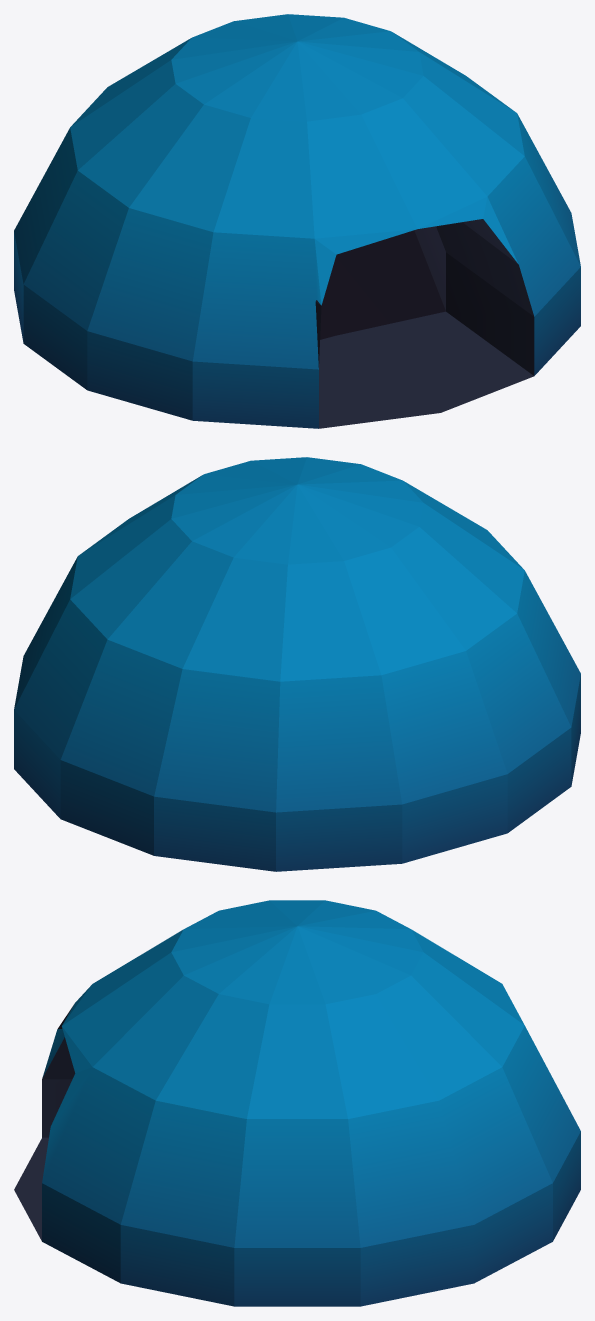
Rendered from Igloo.fbx.
3 renders of one model, top to bottom at view 1: azimuth 30°, elevation 25°; view 2: azimuth 150°, elevation 25°; view 3: azimuth 270°, elevation 25°, orthographic.
Visible parts, largest first — view 1: Igloo; view 2: Igloo; view 3: Igloo.
Part boxes in pixels (x1,y1,x2,y2): Igloo: [14, 14, 580, 428]; Igloo: [14, 457, 580, 871]; Igloo: [14, 900, 580, 1306].
Size of the model in its own units: 190 by 100 by 195.
